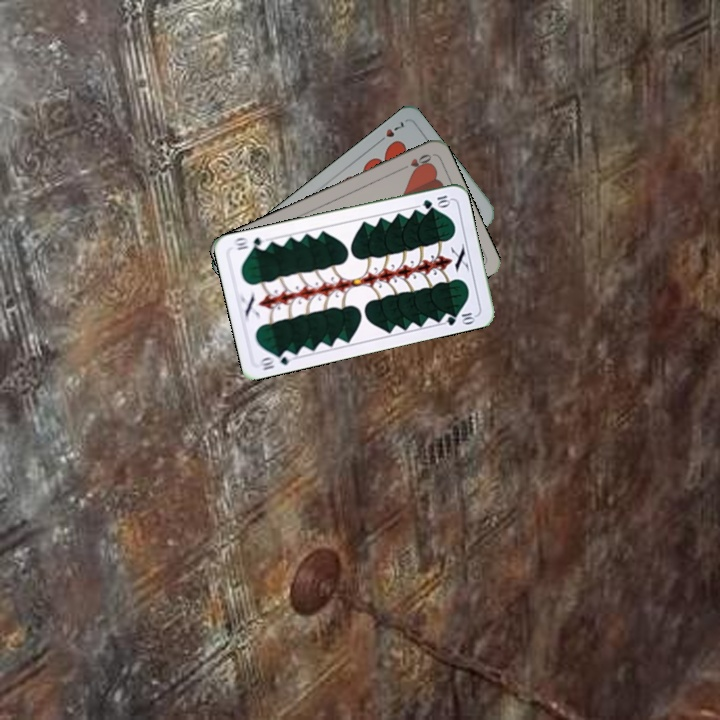G10: (256, 347, 296, 373), (419, 191, 453, 211)
H7: (373, 117, 407, 147)
HO: (396, 150, 434, 173)
